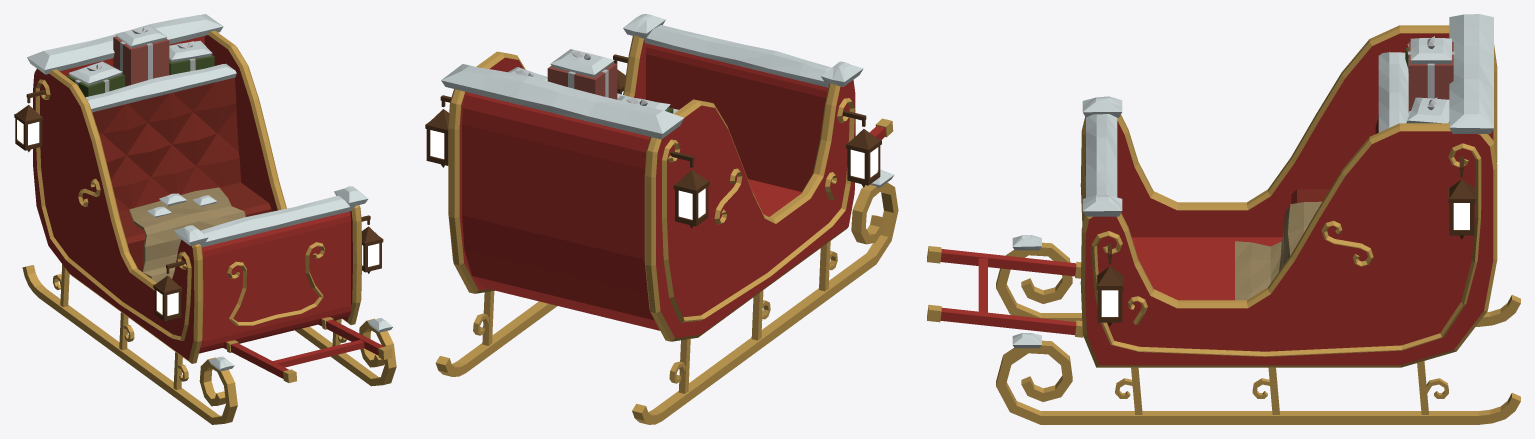
File: santa-s-sleigh-f1a047.glb
The picture shows the model from 3 angles, left to right: view 1: azimuth 30°, elevation 25°; view 2: azimuth 150°, elevation 25°; view 3: azimuth 270°, elevation 25°; orthographic projection. The views are drawn at different scales.
Visible parts, largest first — view 1: sleigh-body, load-mesh, lantern-glass; view 2: sleigh-body, load-mesh, lantern-glass; view 3: sleigh-body, load-mesh, lantern-glass.
Boxes of the visible parts, left/top/right/bottom form: sleigh-body: left=14, top=14, right=396, bottom=424; load-mesh: left=66, top=25, right=214, bottom=97; lantern-glass: left=17, top=120, right=379, bottom=315; sleigh-body: left=425, top=14, right=898, bottom=424; load-mesh: left=508, top=49, right=673, bottom=113; lantern-glass: left=430, top=91, right=877, bottom=219; sleigh-body: left=927, top=14, right=1520, bottom=424; load-mesh: left=1405, top=36, right=1454, bottom=123; lantern-glass: left=1101, top=203, right=1469, bottom=316.
Bounding box in the file's own units: 1.93 × 2.22 × 3.59.
